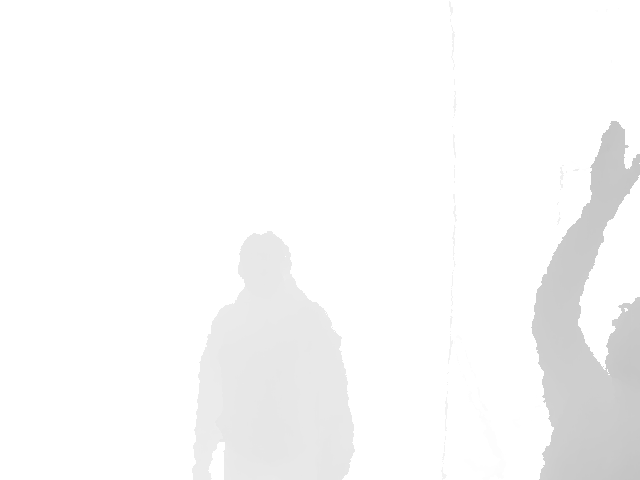hand: (590, 120, 640, 216)
head: (237, 231, 295, 302), (605, 293, 640, 379)
person: (189, 231, 357, 480), (528, 120, 640, 480)
